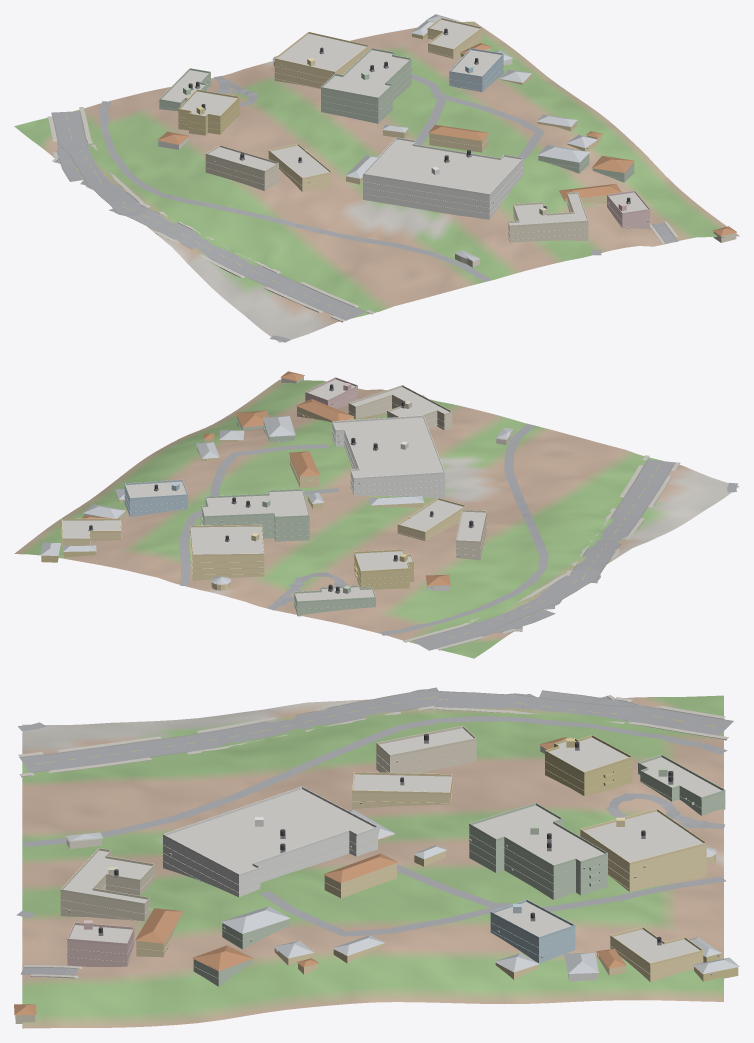
3 renders of one model, top to bottom at view 1: azimuth 30°, elevation 25°; view 2: azimuth 150°, elevation 25°; view 3: azimuth 270°, elevation 25°, orthographic. The views are drawn at different scales.
Parts seen in each view (by area): view 1: Terrain-col, Buildings-col, Roads-col, Details, Sidewalks-col; view 2: Terrain-col, Buildings-col, Roads-col, Details, Sidewalks-col; view 3: Terrain-col, Buildings-col, Roads-col, Details, Sidewalks-col.
Part boxes in pixels (x1,y1,x2,y2): Terrain-col: (14,21,739,342); Buildings-col: (157,14,736,267); Roads-col: (51,74,677,342); Details: (159,17,724,239); Sidewalks-col: (47,107,678,322); Terrain-col: (14,379,739,658); Buildings-col: (40,371,513,616); Roads-col: (178,395,737,650); Details: (61,377,486,609); Sidewalks-col: (403,455,680,650); Terrain-col: (22,695,723,1028); Buildings-col: (14,728,739,1023); Roads-col: (16,687,733,975); Details: (60,725,725,978); Sidewalks-col: (18,695,728,978).
Bounding box in the file's own units: 264 × 34.89 × 265.
